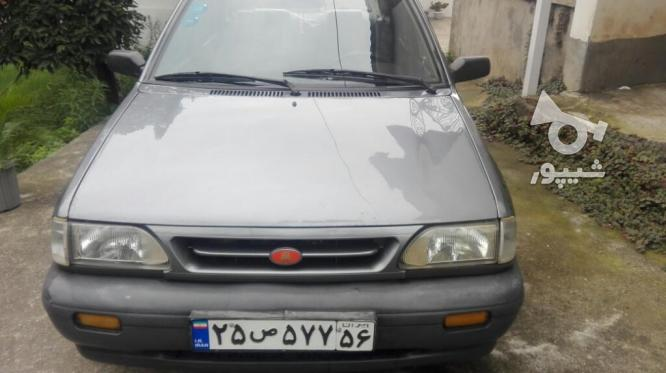car: (187, 309, 379, 354)
